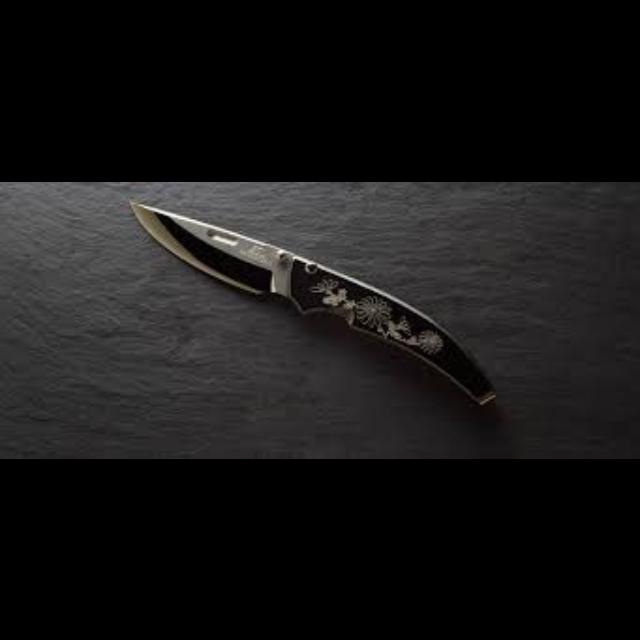Knife: (128, 196, 496, 404)
